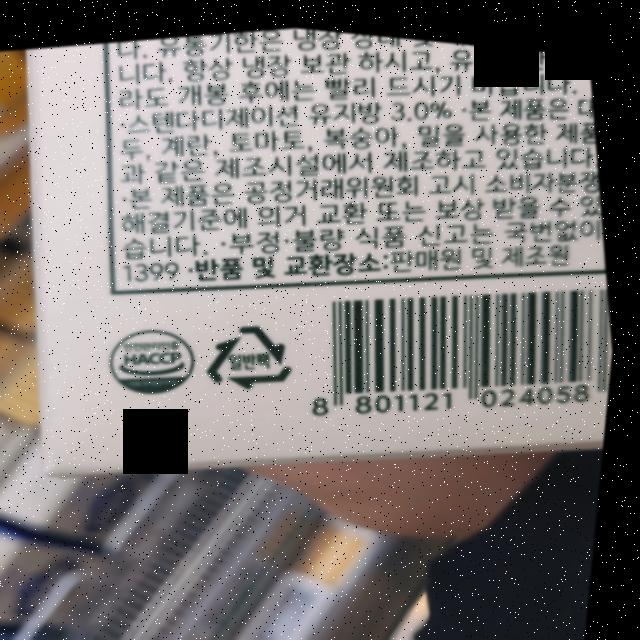NormalPack: (200, 305, 311, 398)
